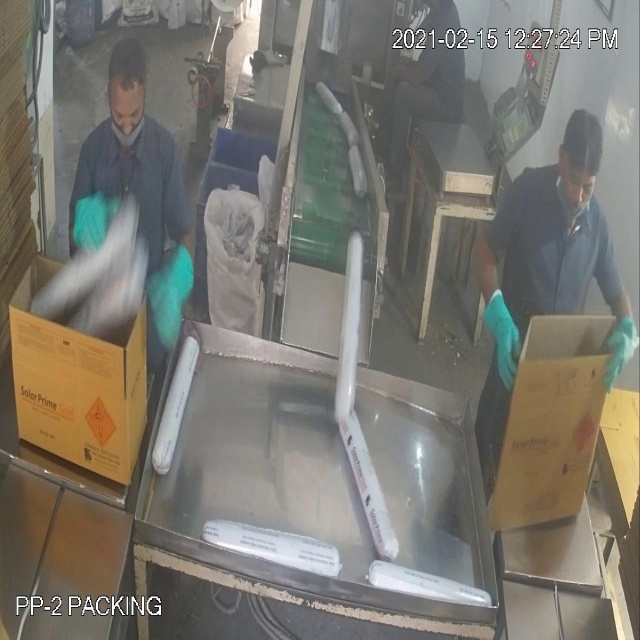Guantes: (486, 270, 528, 392), (148, 244, 194, 353), (595, 292, 640, 384), (70, 180, 108, 263)
